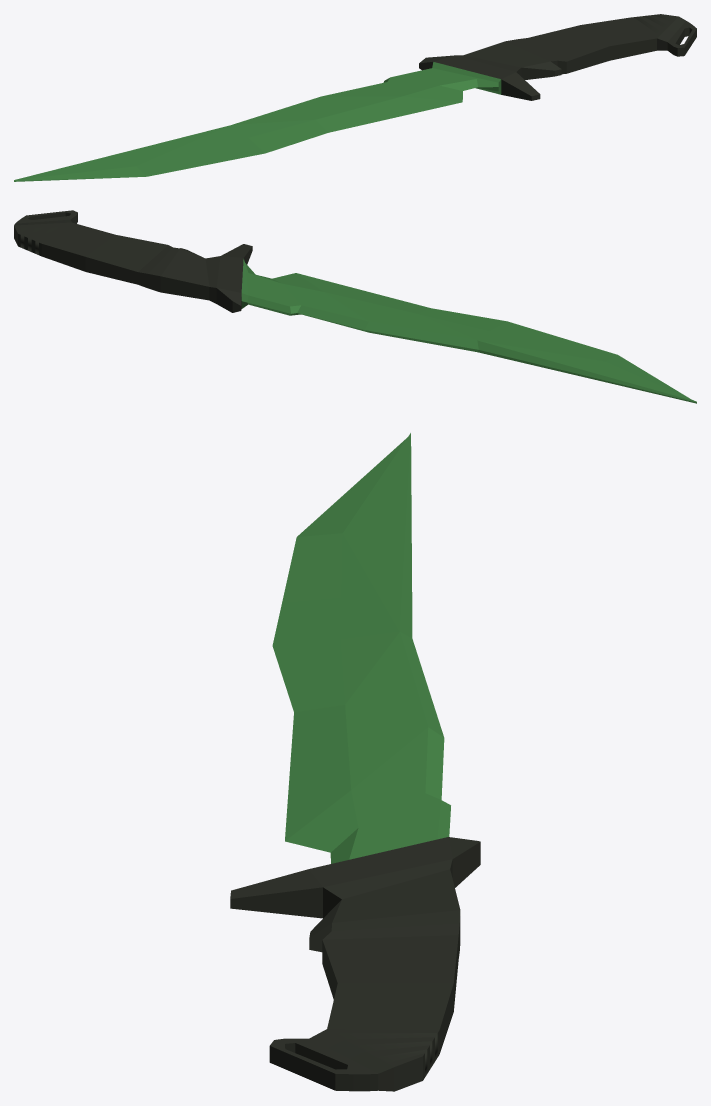
Rendered from knife.fbx.
The picture shows the model from 3 angles, top to bottom: view 1: azimuth 30°, elevation 25°; view 2: azimuth 150°, elevation 25°; view 3: azimuth 270°, elevation 25°; orthographic projection. The views are drawn at different scales.
Visible parts, largest first — view 1: Blade, Handle, BladeGlow, HandleGlow; view 2: Blade, Handle, HandleGlow, BladeGlow; view 3: Blade, Handle, HandleGlow, BladeGlow.
Part boxes in pixels (x1=…): Blade: x1=14, y1=62, x2=501, y2=181; Handle: x1=419, y1=14, x2=696, y2=100; BladeGlow: x1=137, y1=143, x2=224, y2=165; HandleGlow: x1=634, y1=14, x2=675, y2=35; Blade: x1=241, y1=259, x2=696, y2=403; Handle: x1=14, y1=210, x2=252, y2=312; HandleGlow: x1=20, y1=223, x2=64, y2=254; BladeGlow: x1=513, y1=337, x2=603, y2=361; Blade: x1=272, y1=433, x2=450, y2=863; Handle: x1=230, y1=837, x2=480, y2=1091; HandleGlow: x1=336, y1=1033, x2=437, y2=1076; BladeGlow: x1=341, y1=534, x2=371, y2=618.
Size of the model in its own units: 233 by 5.22 by 37.97.
